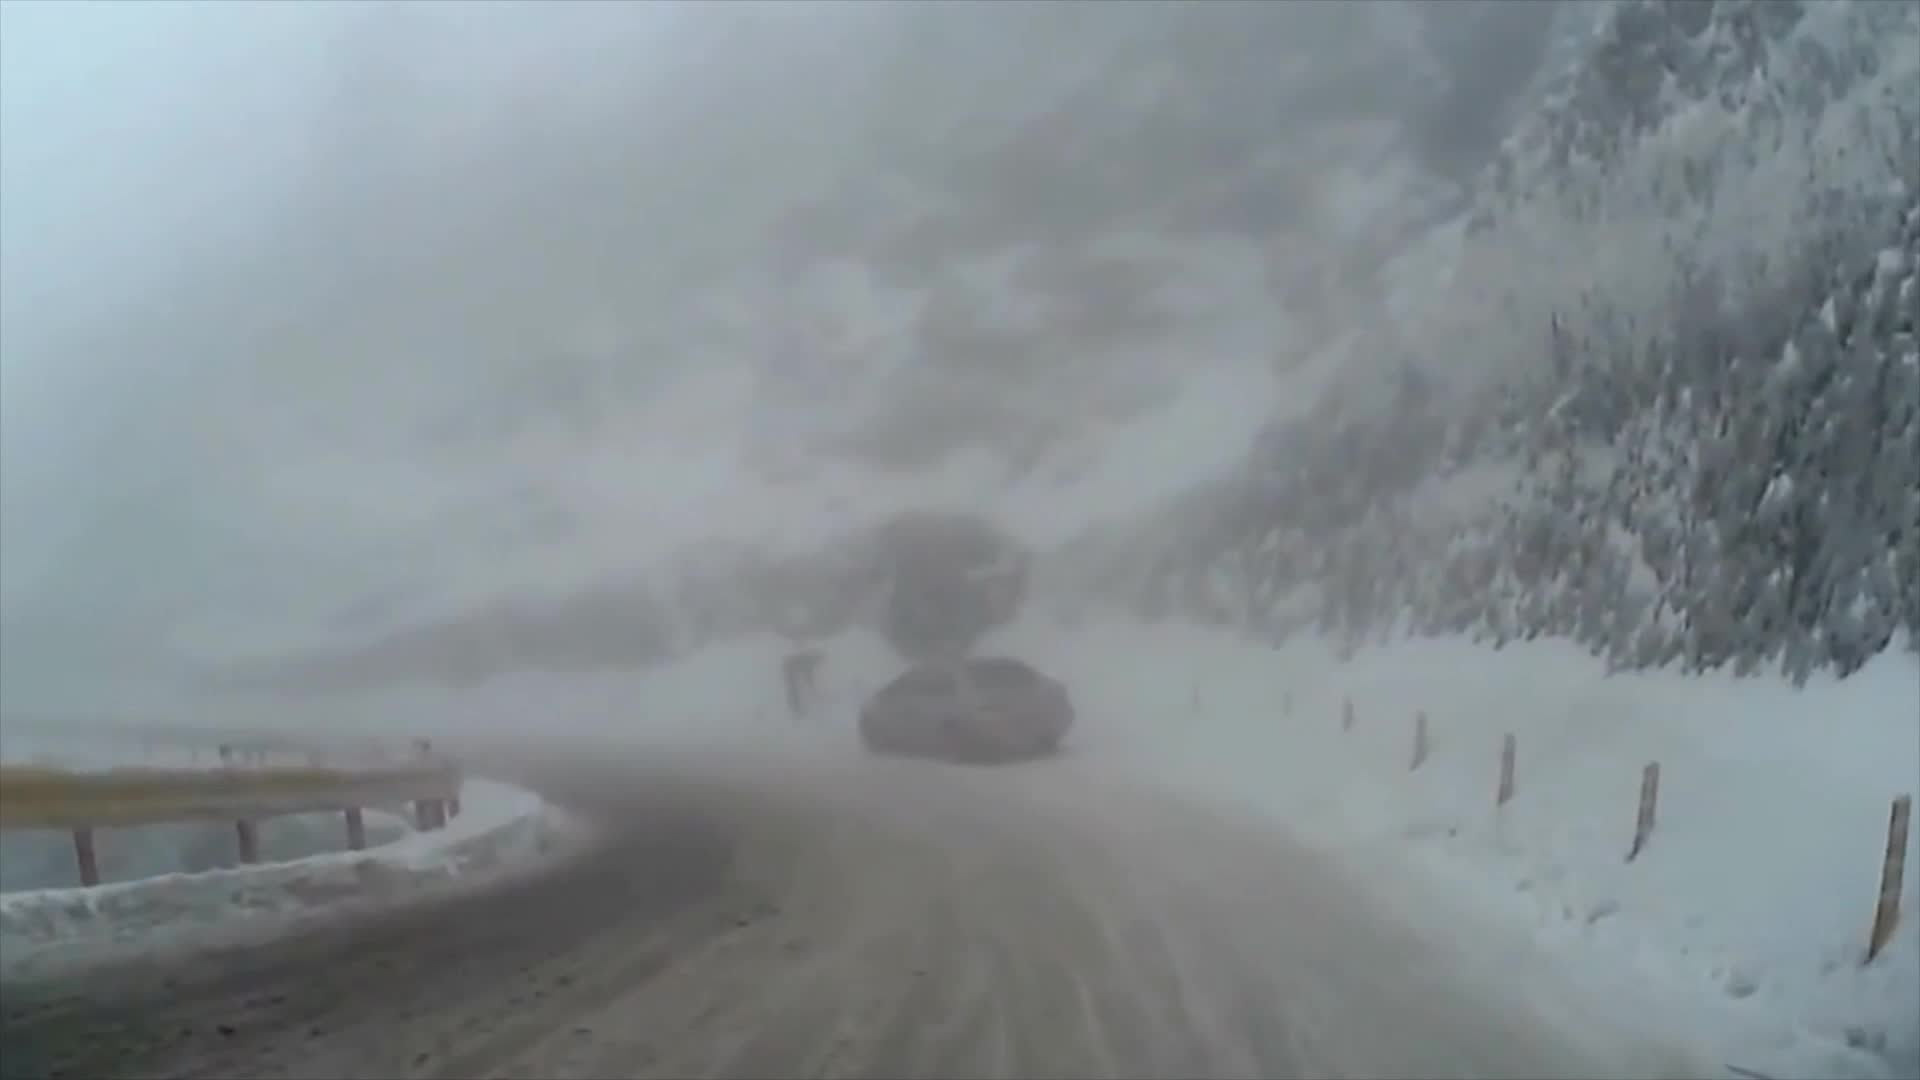pedestrian: (781, 653, 830, 724)
vehicle: (857, 656, 1072, 765)
